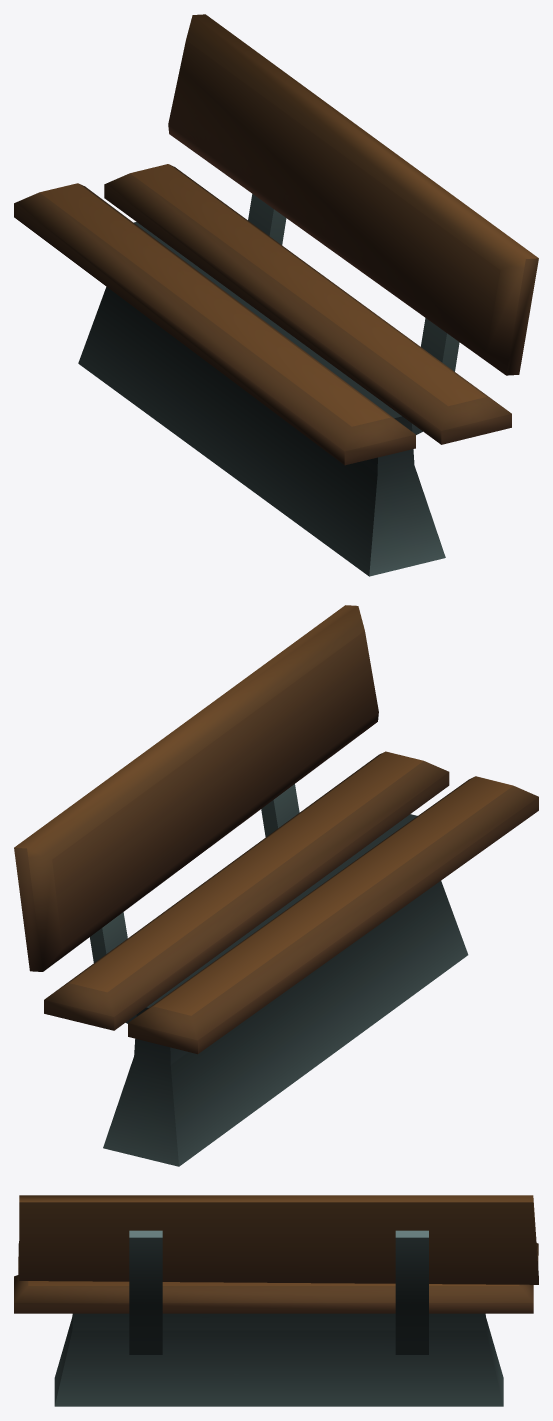
The model's file is tc_bench_1a.glb.
3 views of the same model, one above another, from view 1: azimuth 30°, elevation 25°; view 2: azimuth 150°, elevation 25°; view 3: azimuth 270°, elevation 25° (orthographic). The views are drawn at different scales.
Parts seen in each view (by area): view 1: Bench_1A; view 2: Bench_1A; view 3: Bench_1A.
Boxes of the visible parts, x1=… form: Bench_1A: x1=14, y1=14, x2=538, y2=576; Bench_1A: x1=14, y1=605, x2=538, y2=1166; Bench_1A: x1=14, y1=1195, x2=538, y2=1406.
Bounding box in the file's own units: 0.9415 × 1.35 × 2.76.
1 material, 1 textured.
